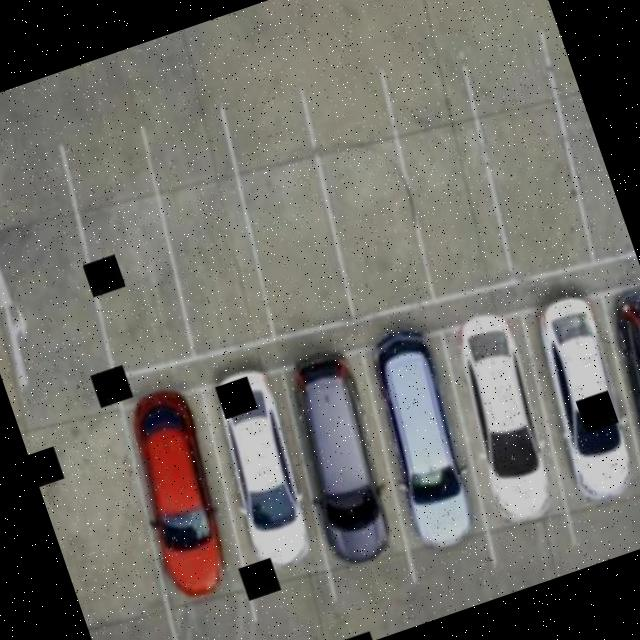Car: (341, 307, 508, 572), (98, 368, 264, 618), (428, 298, 590, 550), (266, 332, 429, 580), (180, 354, 341, 598), (501, 278, 640, 537), (590, 279, 640, 527)
Free: (345, 21, 556, 323), (429, 18, 628, 302), (270, 52, 466, 338), (30, 104, 228, 387), (114, 90, 310, 371), (188, 80, 386, 358), (502, 16, 638, 279)
